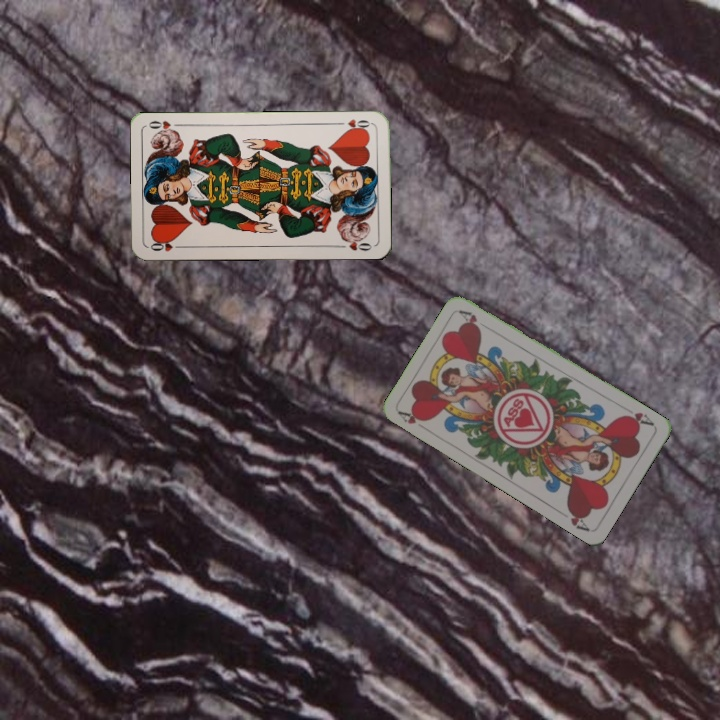HA: (395, 406, 431, 434), (618, 408, 657, 428)
HO: (334, 115, 374, 134), (147, 236, 186, 254)
